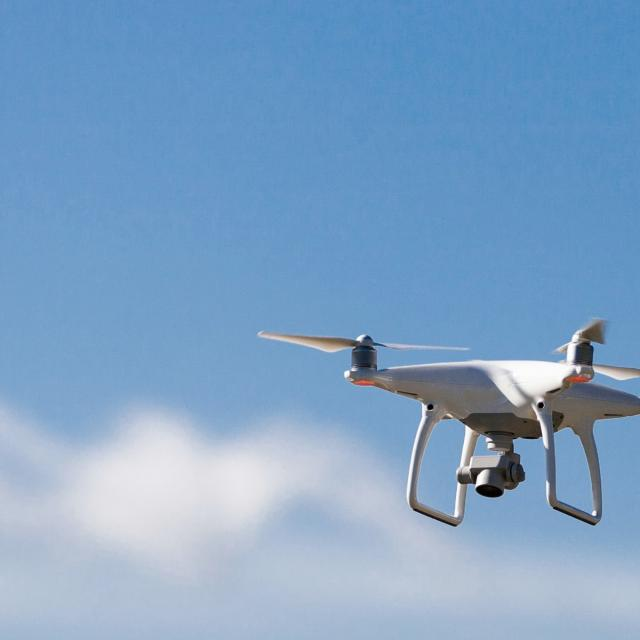drone: (244, 313, 640, 559)
